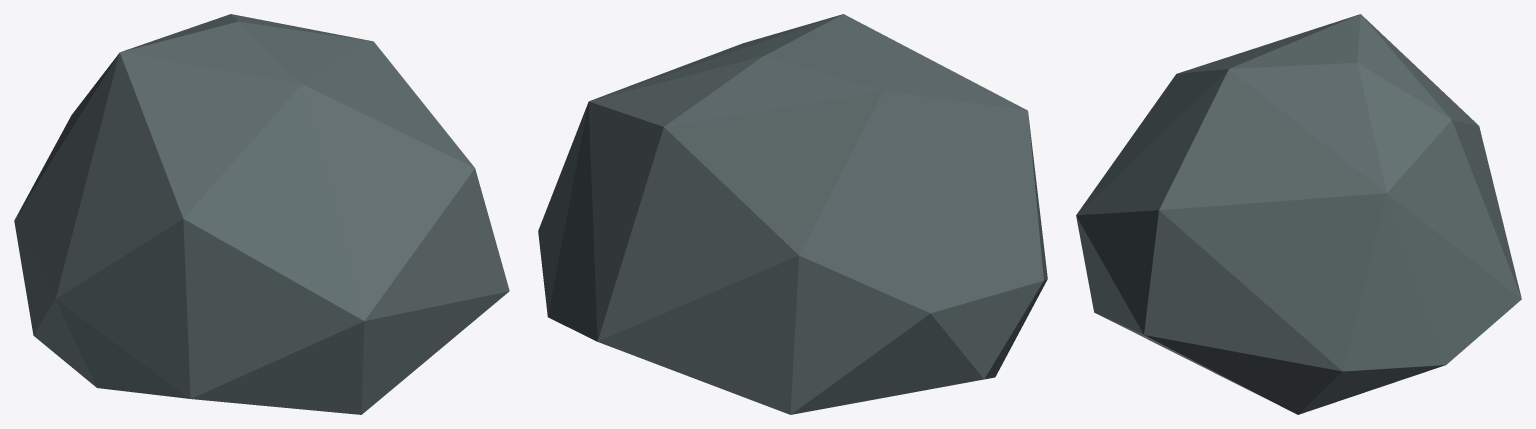
Rendered from Stone_M.fbx.
3 renders of one model, left to right at view 1: azimuth 30°, elevation 25°; view 2: azimuth 150°, elevation 25°; view 3: azimuth 270°, elevation 25°, orthographic. The views are drawn at different scales.
Parts seen in each view (by area): view 1: Stone_M; view 2: Stone_M; view 3: Stone_M.
Part boxes in pixels (<box>): Stone_M: <box>14,14,509,414</box>; Stone_M: <box>538,14,1047,414</box>; Stone_M: <box>1076,14,1521,414</box>.
Size of the model in its own units: 38.1 by 23.94 by 35.78.
